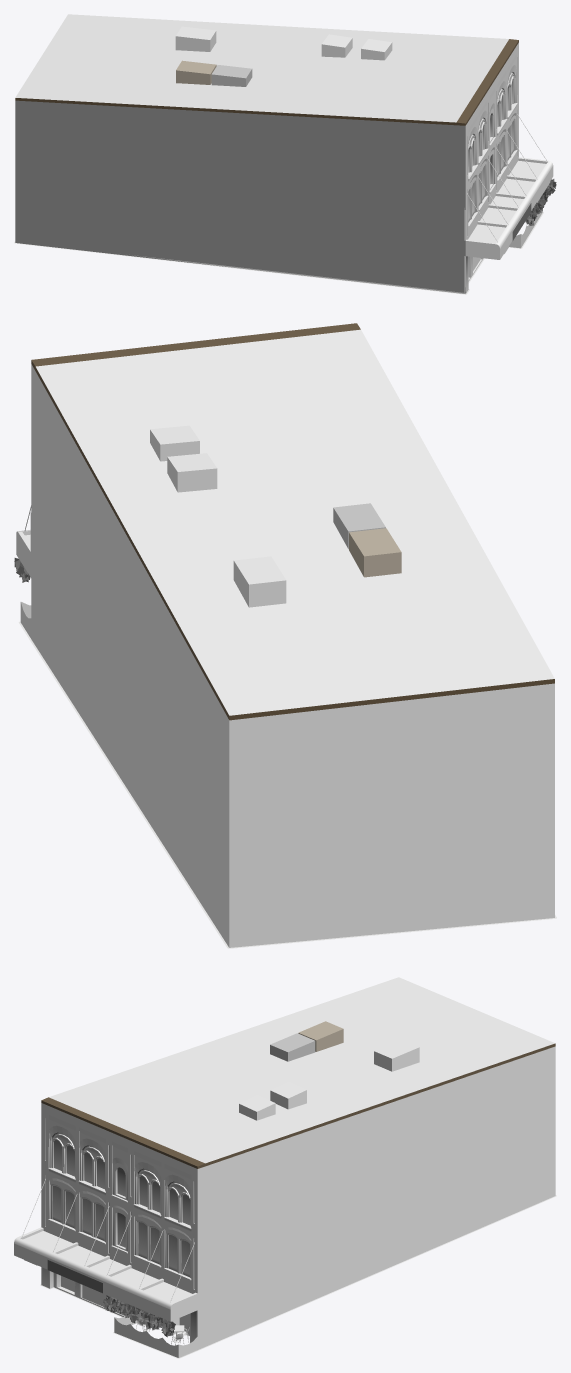
3 views of the same model, one above another, from view 1: azimuth 30°, elevation 25°; view 2: azimuth 150°, elevation 25°; view 3: azimuth 270°, elevation 25° (orthographic). The views are drawn at different scales.
Parts seen in each view (by area): view 1: RA04-33_U1 (×4); view 2: RA04-33_U1 (×2); view 3: RA04-33_U1 (×5).
Boxes of the visible parts, left/top/right/bottom form: RA04-33_U1 (×4): left=14, top=14, right=556, bottom=294; RA04-33_U1 (×2): left=16, top=323, right=556, bottom=948; RA04-33_U1 (×5): left=14, top=977, right=556, bottom=1358.
Bounding box in the file's own units: 38.81 × 14.79 × 38.64.
